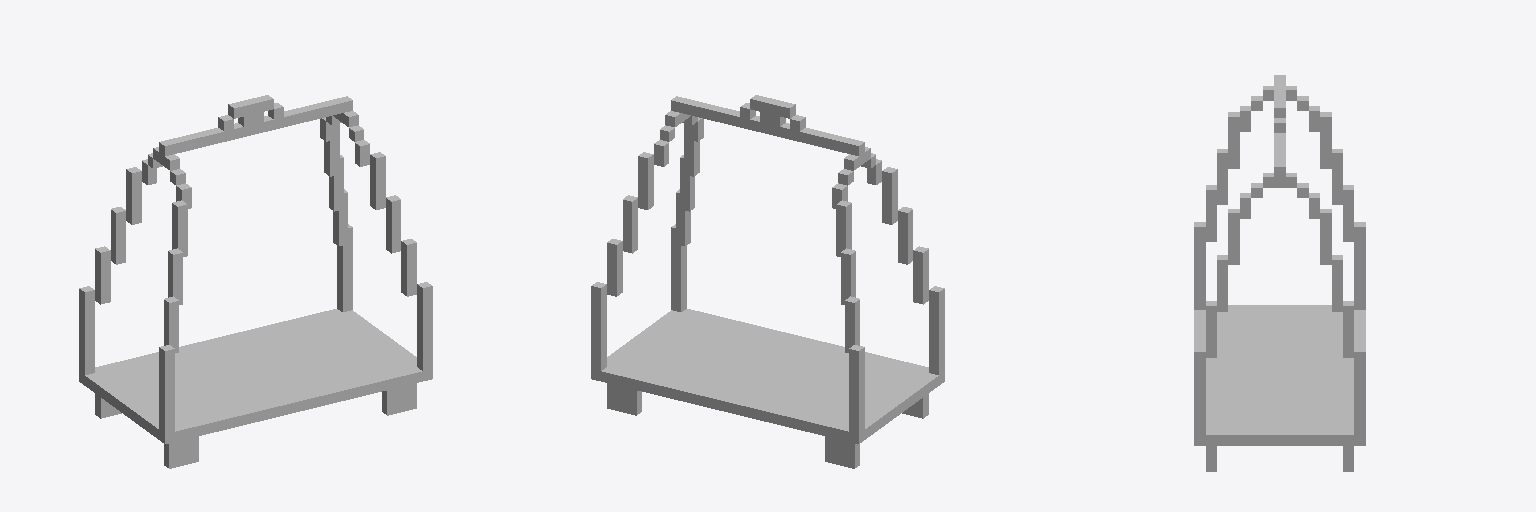
The model's file is LuggageCart.obj.
3 renders of one model, left to right at view 1: azimuth 30°, elevation 25°; view 2: azimuth 150°, elevation 25°; view 3: azimuth 270°, elevation 25°, orthographic.
Parts seen in each view (by area): view 1: object 1; view 2: object 1; view 3: object 1.
Boxes of the visible parts, box(x1,y1,x2,y2) form: object 1: box(79, 95, 432, 468); object 1: box(591, 95, 944, 468); object 1: box(1194, 75, 1365, 471).
Bounding box in the file's own units: 2.7 × 3 × 1.5.